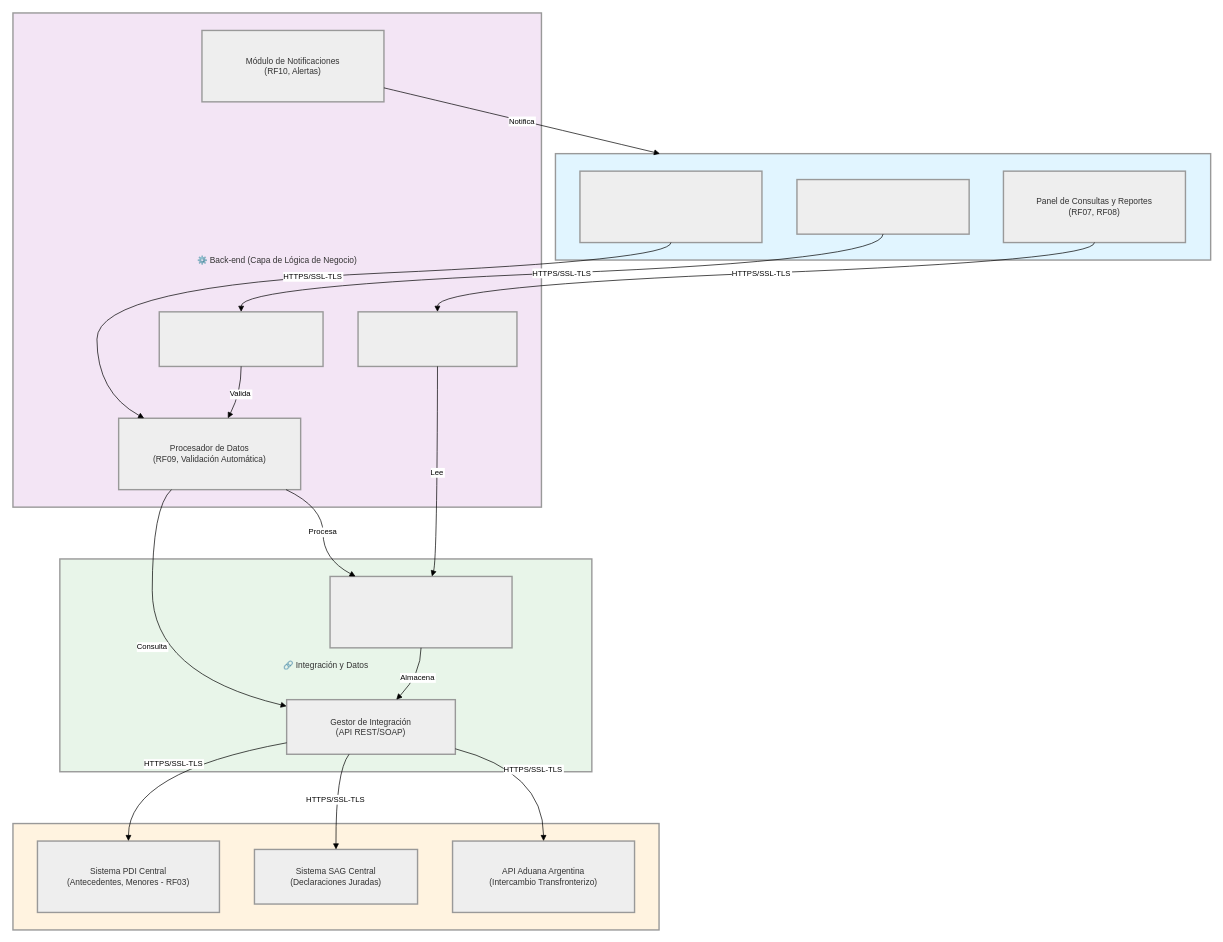
The diagram is 1223 pixels wide and 942 high, and some of its shapes have lost their labels. The centre of each missing label's shape, as x and y in pixels:
"API de Autenticación (RF02, Control de Roles)" goes at pixel 240 339.
"Base de Datos Relacional (Historial, Credenciales)" goes at pixel 420 611.
"Módulo de Carga de Documentos (Autorizaciones, Identidad)" goes at pixel 670 206.
"Módulo de Formularios (RF04, RF05)" goes at pixel 882 206.
"Módulo de Reportes (PDF, Excel)" goes at pixel 437 339.
